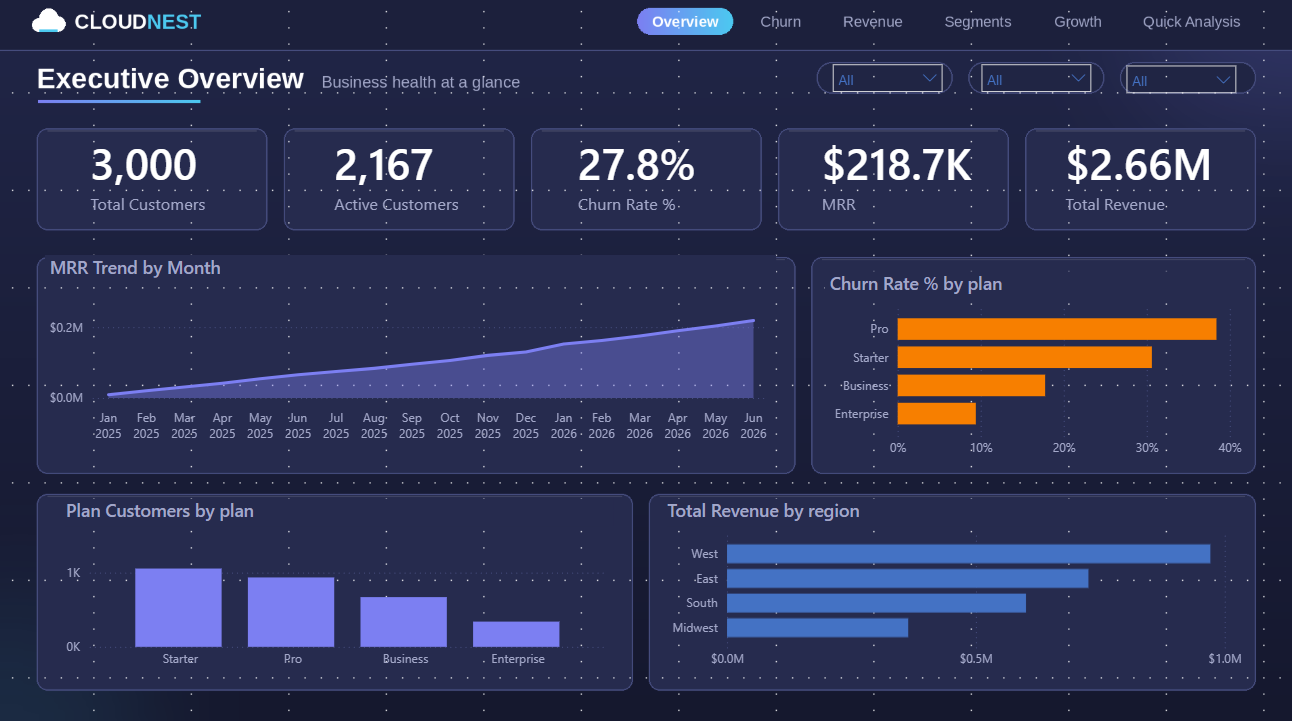

What the dashboard file says about the page in this screenshot:
{"tool":"powerbi","page":{"name":"Executive Overview","canvas":[1280,720],"ordinal":1},"visuals":[{"type":"cardVisual","fields":{"Data":["_Measures.Total Customers"]},"box":[64,112,192,128],"z":0},{"type":"cardVisual","fields":{"Data":["_Measures.Active Customers"]},"box":[304,112,192,128],"z":1000},{"type":"cardVisual","fields":{"Data":["_Measures.Churn Rate %"]},"box":[544,112,192,128],"z":2000},{"type":"cardVisual","fields":{"Data":["_Measures.MRR"]},"box":[784,112,272,128],"z":3000},{"type":"cardVisual","fields":{"Data":["_Measures.Total Revenue"]},"box":[1024,112,224,128],"z":4000},{"type":"areaChart","title":"MRR Trend by Month","fields":{"Y":["_Measures.MRR Trend"],"Category":["DateTable.Month Start"]},"box":[48,256,720,192],"z":5000},{"type":"clusteredBarChart","title":"Churn Rate % by plan","fields":{"Category":["plans.plan_name"],"Y":["_Measures.Plan Churn Rate %"]},"box":[816,272,416,192],"z":6000},{"type":"clusteredColumnChart","title":"Plan Customers by plan","fields":{"Category":["plans.plan_name"],"Y":["_Measures.Plan Customers"]},"box":[64,496,544,176],"z":7000},{"type":"clusteredBarChart","fields":{"Category":["customers.region"],"Y":["_Measures.Total Revenue"]},"box":[656,496,576,176],"z":8000},{"type":"slicer","fields":{"Values":["customers.region"]},"box":[814,58,128,64],"z":9000},{"type":"slicer","fields":{"Values":["customers.industry"]},"box":[960,58,128,64],"z":10000},{"type":"slicer","fields":{"Values":["subscriptions.billing_cycle"]},"box":[1103,59,128,63],"z":11000},{"type":"actionButton","box":[736,11,80,32],"z":12000},{"type":"actionButton","box":[825,12,80,32],"z":13000},{"type":"actionButton","box":[927,12,80,32],"z":14000},{"type":"actionButton","box":[1024,13,80,32],"z":15000},{"type":"actionButton","box":[1130,13,96,32],"z":16000}]}

Visuals, with their boxes in screenshot pixels (x1, y1, x2, y2), scaled from the page's 1280x720 canvas onto the 1292x721 screenshot:
cardVisual - _Measures.Total Customers: <bbox>65, 112, 258, 240</bbox>
cardVisual - _Measures.Active Customers: <bbox>307, 112, 501, 240</bbox>
cardVisual - _Measures.Churn Rate %: <bbox>549, 112, 743, 240</bbox>
cardVisual - _Measures.MRR: <bbox>791, 112, 1066, 240</bbox>
cardVisual - _Measures.Total Revenue: <bbox>1034, 112, 1260, 240</bbox>
"MRR Trend by Month" areaChart: <bbox>48, 256, 775, 449</bbox>
"Churn Rate % by plan" clusteredBarChart: <bbox>824, 272, 1244, 465</bbox>
"Plan Customers by plan" clusteredColumnChart: <bbox>65, 497, 614, 673</bbox>
clusteredBarChart - customers.region x _Measures.Total Revenue: <bbox>662, 497, 1244, 673</bbox>
slicer - customers.region: <bbox>822, 58, 951, 122</bbox>
slicer - customers.industry: <bbox>969, 58, 1098, 122</bbox>
slicer - subscriptions.billing_cycle: <bbox>1113, 59, 1243, 122</bbox>
actionButton: <bbox>743, 11, 824, 43</bbox>
actionButton: <bbox>833, 12, 913, 44</bbox>
actionButton: <bbox>936, 12, 1016, 44</bbox>
actionButton: <bbox>1034, 13, 1114, 45</bbox>
actionButton: <bbox>1141, 13, 1237, 45</bbox>
